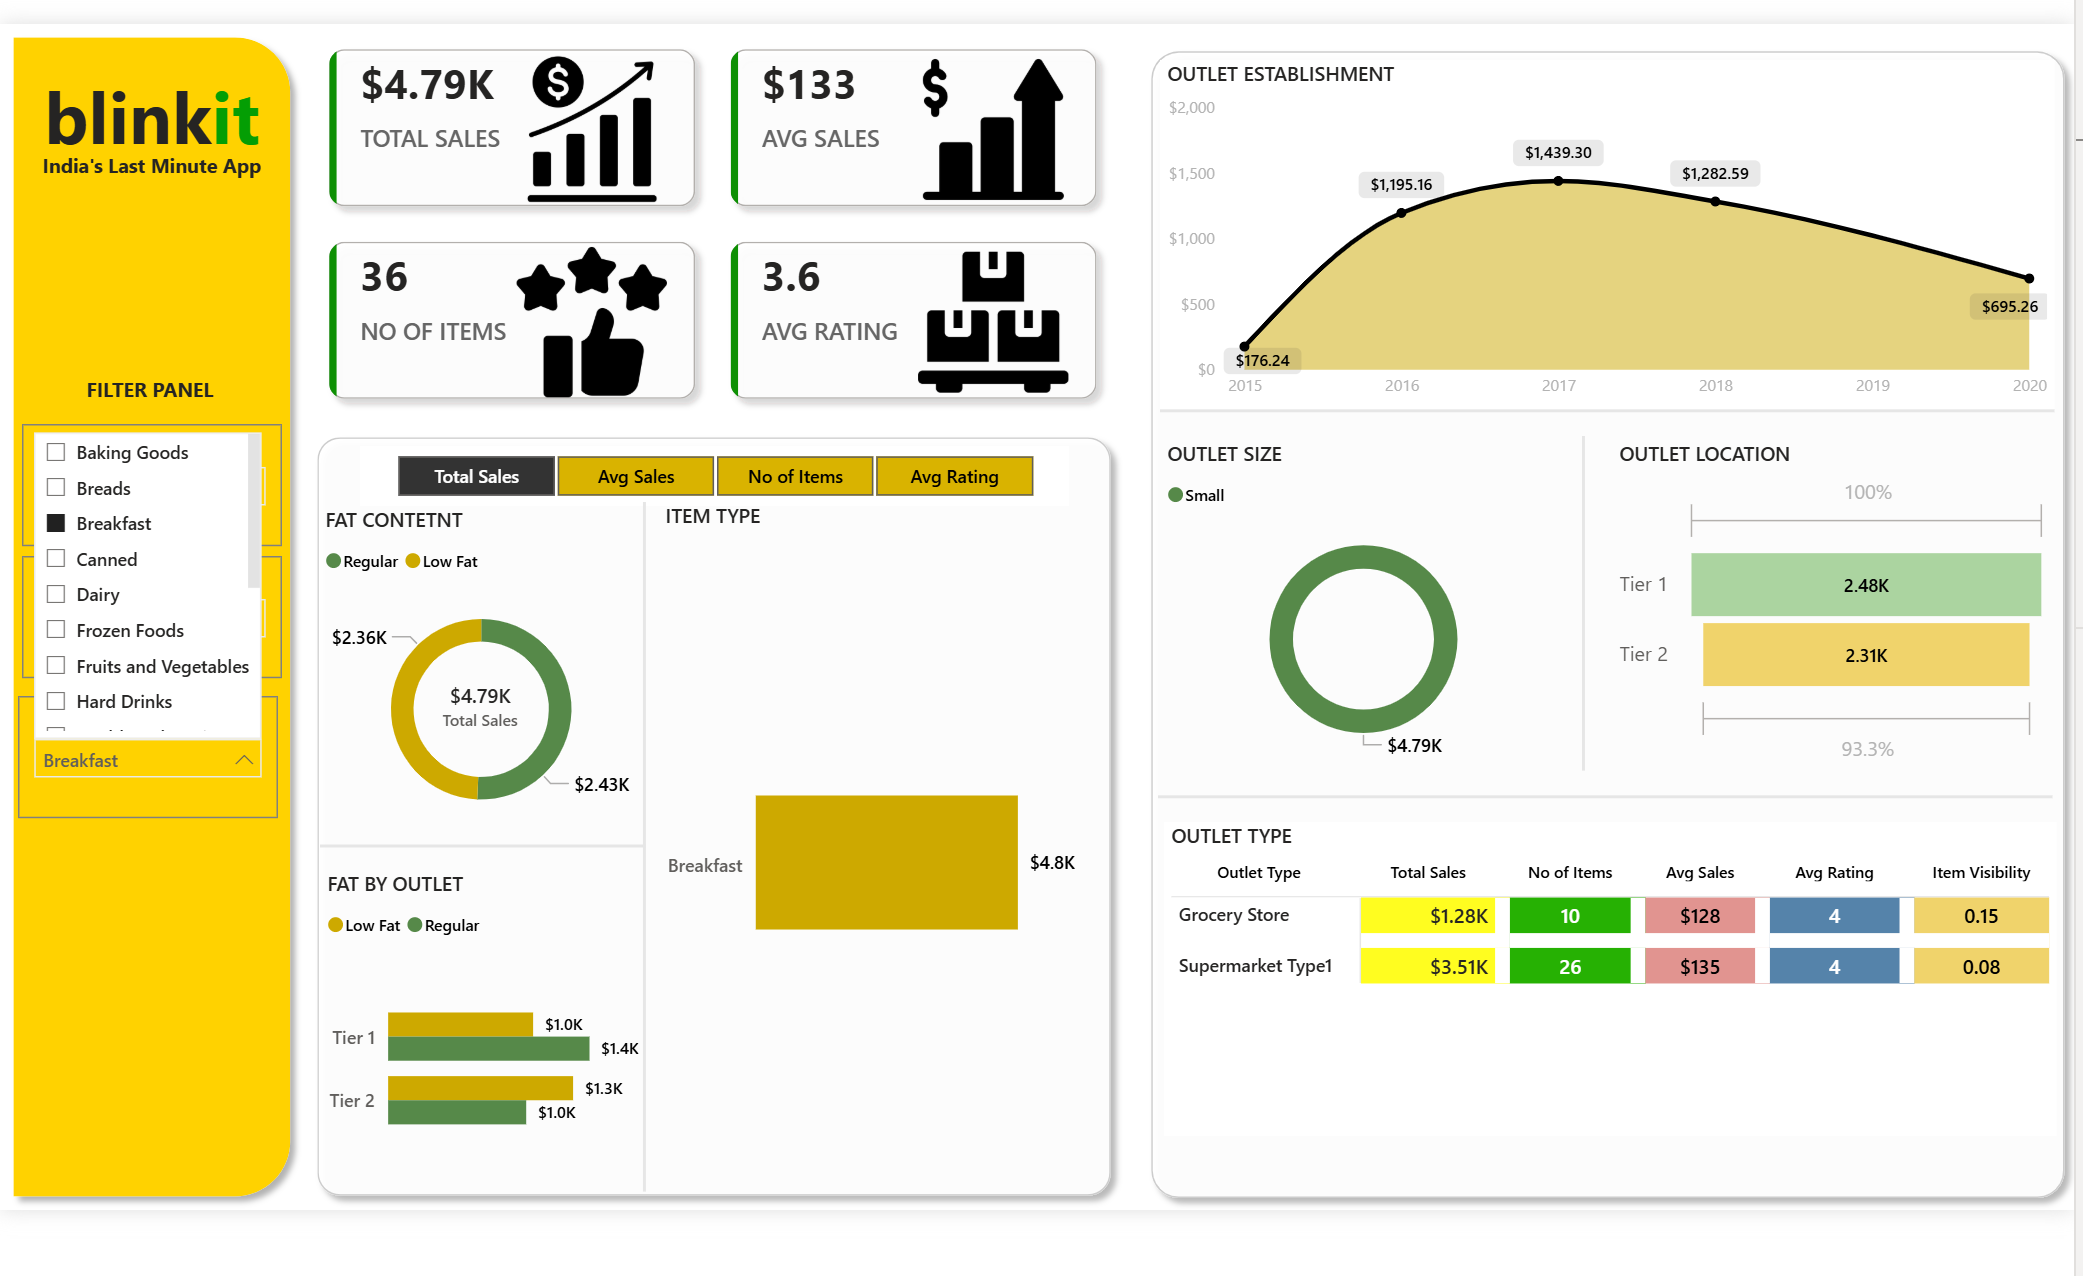

What the dashboard file says about the page in this screenshot:
{"tool":"powerbi","page":{"name":"Page 1","canvas":[1400,800],"ordinal":0},"visuals":[{"type":"shape","box":[0,0,205,800.4],"z":0},{"type":"textbox","box":[14.9,24.3,175.5,75.6],"z":1000},{"type":"textbox","box":[0,80.9,205,37.6],"z":2000},{"type":"cardVisual","fields":{"Data":["BlinkIT Grocery Data.Total Sales","BlinkIT Grocery Data.Avg Sales","BlinkIT Grocery Data.No of Items","BlinkIT Grocery Data.Avg Rating"]},"box":[205,0,553.6,270.5],"z":3000},{"type":"shape","box":[205,270.5,553.6,529.9],"z":4000},{"type":"donutChart","title":"FAT CONTETNT","fields":{"Y":["BlinkIT Grocery Data.Total Sales"],"Category":["BlinkIT Grocery Data.Item Fat Content"]},"box":[214.7,324.9,220.3,230.1],"z":5000},{"type":"slicer","fields":{"Values":["Metrics.Metrics"]},"box":[242.6,284.5,478.3,40.4],"z":6000},{"type":"cardVisual","fields":{"Data":["BlinkIT Grocery Data.Total Sales"]},"box":[274.7,416.9,100.4,86.5],"z":7000},{"type":"clusteredBarChart","title":"FAT BY OUTLET","fields":{"Y":["BlinkIT Grocery Data.Total Sales"],"Category":["BlinkIT Grocery Data.Outlet Location Type"],"Series":["BlinkIT Grocery Data.Item Fat Content"]},"box":[216,571.1,220.1,217.4],"z":8000},{"type":"shape","box":[216,538.7,220.1,32.4],"z":9000},{"type":"shape","box":[425.3,322.1,19.5,465.7],"z":10000},{"type":"barChart","title":"ITEM TYPE","fields":{"Y":["BlinkIT Grocery Data.Total Sales"],"Category":["BlinkIT Grocery Data.Item Type"]},"box":[444.8,322.1,292.8,465.7],"z":11000},{"type":"shape","box":[768.3,9.8,634.5,792],"z":12000},{"type":"lineChart","title":"OUTLET ESTABLISHMENT","fields":{"Y":["BlinkIT Grocery Data.Total Sales"],"Category":["BlinkIT Grocery Data.Outlet Establishment Year"]},"box":[783.7,23.7,603.8,237.1],"z":13000},{"type":"shape","box":[783.7,244,603.8,33.5],"z":14000},{"type":"donutChart","title":"OUTLET SIZE","fields":{"Y":["BlinkIT Grocery Data.Total Sales"],"Category":["BlinkIT Grocery Data.Outlet Size"]},"box":[783.7,280.3,274.7,224.5],"z":15000},{"type":"shape","box":[1058.4,277.5,20.9,225.9],"z":16000},{"type":"funnel","title":"OUTLET LOCATION","fields":{"Y":["Sum(BlinkIT Grocery Data.Sales)"],"Category":["BlinkIT Grocery Data.Outlet Location Type"]},"box":[1087.6,280.3,299.8,224.5],"z":17000},{"type":"shape","box":[782.3,504.8,603.8,33.5],"z":18000},{"type":"pivotTable","title":"OUTLET TYPE","fields":{"Rows":["BlinkIT Grocery Data.Outlet Type"],"Values":["BlinkIT Grocery Data.Total Sales","BlinkIT Grocery Data.No of Items","BlinkIT Grocery Data.Avg Sales","BlinkIT Grocery Data.Avg Rating","Avg(BlinkIT Grocery Data.Item Visibility)"]},"box":[785.1,538.2,602.4,212],"z":19000},{"type":"slicer","fields":{"Values":["BlinkIT Grocery Data.Outlet Location Type"]},"box":[15.3,270.5,175.7,82.3],"z":20000},{"type":"slicer","fields":{"Values":["BlinkIT Grocery Data.Outlet Size"]},"box":[15.3,359.8,175.7,82.3],"z":21000},{"type":"slicer","fields":{"Values":["BlinkIT Grocery Data.Item Type"]},"box":[12.5,453.2,175.7,82.3],"z":22000},{"type":"textbox","box":[14.9,232.2,172.8,31.1],"z":22001}]}

Visuals, with their boxes on the page's 1400x800 design canvas (x1, y1, x2, y2). These are canvas units, not pixel positions in the 2083x1276 screenshot, which may show the page scaled, cropped or inside an application window:
shape: <region>0, 0, 205, 800</region>
textbox: <region>15, 24, 190, 100</region>
textbox: <region>0, 81, 205, 118</region>
cardVisual - BlinkIT Grocery Data.Total Sales x BlinkIT Grocery Data.Avg Sales: <region>205, 0, 759, 270</region>
shape: <region>205, 270, 759, 800</region>
"FAT CONTETNT" donutChart: <region>215, 325, 435, 555</region>
slicer - Metrics.Metrics: <region>243, 284, 721, 325</region>
cardVisual - BlinkIT Grocery Data.Total Sales: <region>275, 417, 375, 503</region>
"FAT BY OUTLET" clusteredBarChart: <region>216, 571, 436, 788</region>
shape: <region>216, 539, 436, 571</region>
shape: <region>425, 322, 445, 788</region>
"ITEM TYPE" barChart: <region>445, 322, 738, 788</region>
shape: <region>768, 10, 1403, 802</region>
"OUTLET ESTABLISHMENT" lineChart: <region>784, 24, 1388, 261</region>
shape: <region>784, 244, 1388, 278</region>
"OUTLET SIZE" donutChart: <region>784, 280, 1058, 505</region>
shape: <region>1058, 278, 1079, 503</region>
"OUTLET LOCATION" funnel: <region>1088, 280, 1387, 505</region>
shape: <region>782, 505, 1386, 538</region>
"OUTLET TYPE" pivotTable: <region>785, 538, 1388, 750</region>
slicer - BlinkIT Grocery Data.Outlet Location Type: <region>15, 270, 191, 353</region>
slicer - BlinkIT Grocery Data.Outlet Size: <region>15, 360, 191, 442</region>
slicer - BlinkIT Grocery Data.Item Type: <region>12, 453, 188, 536</region>
textbox: <region>15, 232, 188, 263</region>
